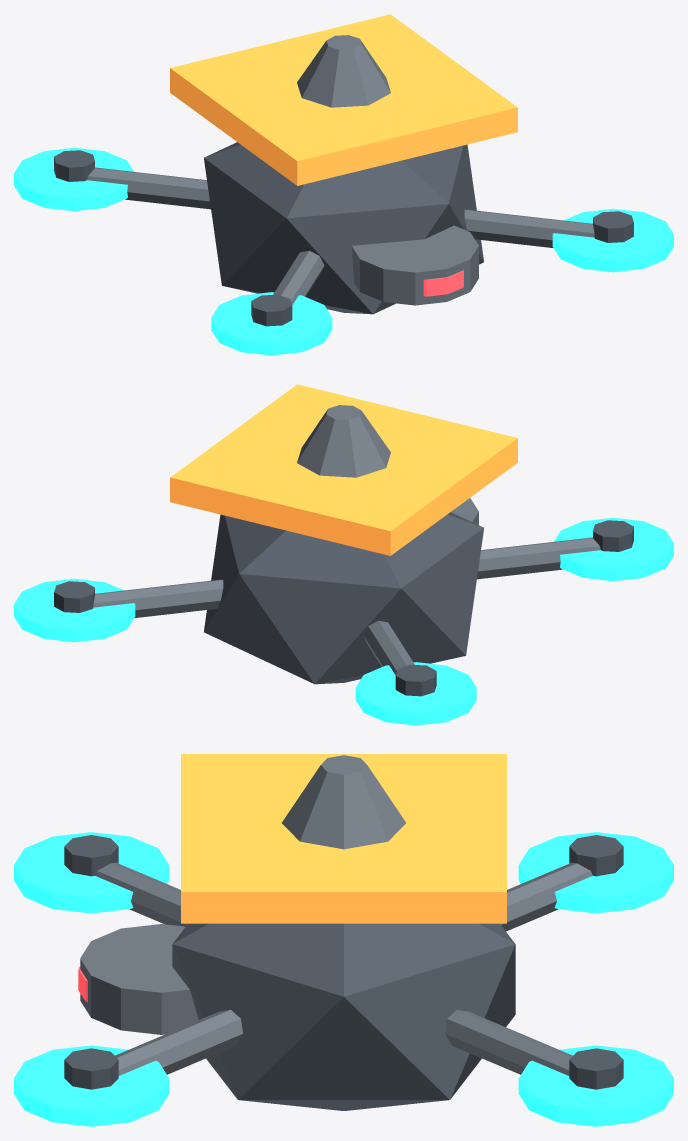
Rendered from enemy.glb.
3 renders of one model, top to bottom at view 1: azimuth 30°, elevation 25°; view 2: azimuth 150°, elevation 25°; view 3: azimuth 270°, elevation 25°, orthographic. The views are drawn at different scales.
Visible parts, largest first — view 1: EnemyWarningStrip, EnemyCore, EnemyEyeMount, EnemyRotor_03, EnemyTopFin, EnemyRotor_04, EnemyRotor_02, EnemyArm_04, EnemyArm_02, EnemyArm_03, EnemyRotorHub_03, EnemyRotorHub_04 (+2 smaller); view 2: EnemyCore, EnemyWarningStrip, EnemyRotor_02, EnemyTopFin, EnemyRotor_01, EnemyRotor_03, EnemyArm_01, EnemyArm_03, EnemyArm_02, EnemyRotorHub_02, EnemyRotorHub_01, EnemyRotorHub_03; view 3: EnemyCore, EnemyWarningStrip, EnemyEyeMount, EnemyRotor_01, EnemyRotor_04, EnemyTopFin, EnemyRotor_02, EnemyRotor_03, EnemyArm_01, EnemyArm_04, EnemyArm_02, EnemyArm_03 (+4 smaller).
Part boxes in pixels (bbox=[...]): EnemyWarningStrip: bbox=[170, 14, 517, 185]; EnemyCore: bbox=[204, 142, 483, 314]; EnemyEyeMount: bbox=[351, 225, 478, 305]; EnemyRotor_03: bbox=[211, 292, 332, 355]; EnemyTopFin: bbox=[297, 35, 390, 107]; EnemyRotor_04: bbox=[552, 208, 673, 272]; EnemyRotor_02: bbox=[14, 147, 133, 211]; EnemyArm_04: bbox=[464, 209, 594, 247]; EnemyArm_02: bbox=[87, 167, 210, 209]; EnemyArm_03: bbox=[273, 250, 324, 304]; EnemyRotorHub_03: bbox=[251, 294, 292, 326]; EnemyRotorHub_04: bbox=[593, 211, 633, 242]; EnemyCore: bbox=[204, 512, 483, 684]; EnemyWarningStrip: bbox=[170, 384, 517, 555]; EnemyRotor_02: bbox=[355, 662, 476, 725]; EnemyTopFin: bbox=[297, 405, 390, 477]; EnemyRotor_01: bbox=[14, 578, 135, 642]; EnemyRotor_03: bbox=[554, 517, 673, 581]; EnemyArm_01: bbox=[93, 579, 223, 617]; EnemyArm_03: bbox=[477, 537, 600, 579]; EnemyArm_02: bbox=[363, 620, 414, 674]; EnemyRotorHub_02: bbox=[395, 664, 436, 696]; EnemyRotorHub_01: bbox=[54, 581, 94, 612]; EnemyRotorHub_03: bbox=[593, 520, 633, 551]; EnemyCore: bbox=[172, 923, 515, 1110]; EnemyWarningStrip: bbox=[181, 754, 506, 923]; EnemyEyeMount: bbox=[80, 924, 198, 1034]; EnemyRotor_01: bbox=[518, 1045, 673, 1126]; EnemyRotor_04: bbox=[14, 1045, 169, 1126]; EnemyTopFin: bbox=[282, 755, 405, 849]; EnemyRotor_02: bbox=[518, 832, 673, 913]; EnemyRotor_03: bbox=[14, 832, 169, 913]; EnemyArm_01: bbox=[445, 1009, 572, 1075]; EnemyArm_04: bbox=[115, 1009, 242, 1075]; EnemyArm_02: bbox=[500, 862, 592, 931]; EnemyArm_03: bbox=[95, 862, 187, 926].
Bounding box in the file's own units: 1.7 × 0.9844 × 1.7.
